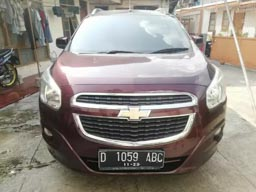plat: (98, 149, 166, 162)
